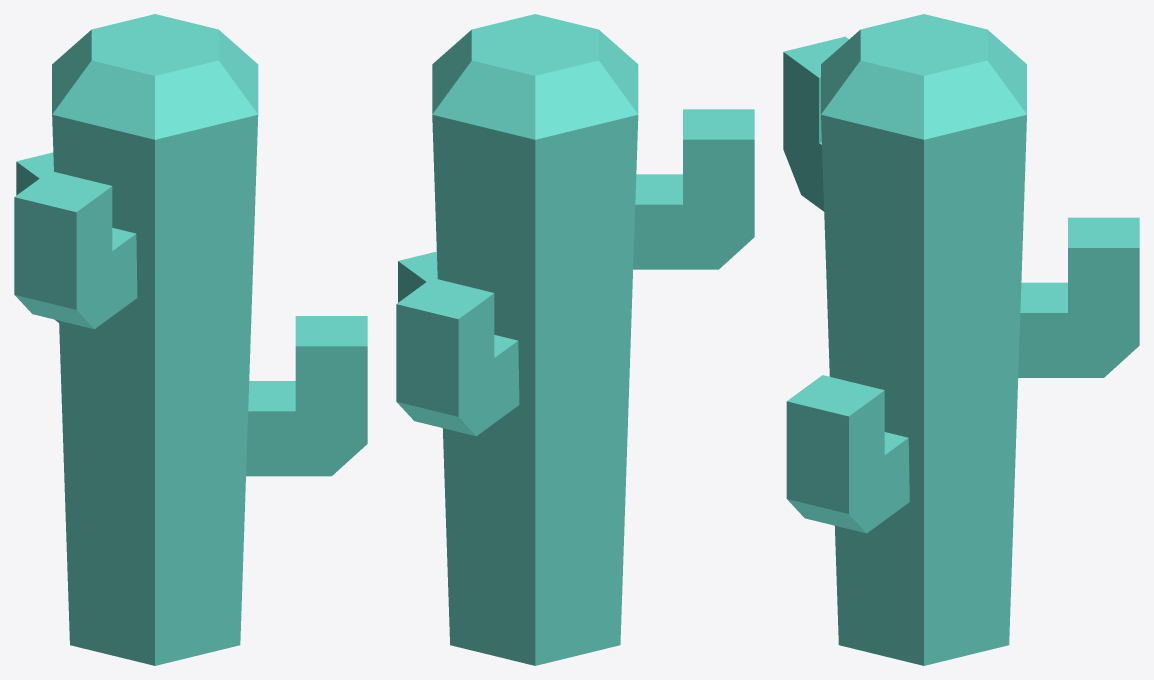
The model's file is cactus_short.gltf.
The picture shows the model from 3 angles, left to right: view 1: azimuth 30°, elevation 25°; view 2: azimuth 150°, elevation 25°; view 3: azimuth 270°, elevation 25°; orthographic projection.
Parts seen in each view (by area): view 1: cactus_short; view 2: cactus_short; view 3: cactus_short.
Part boxes in pixels (bbox=[...]): cactus_short: bbox=[14, 14, 367, 665]; cactus_short: bbox=[396, 14, 754, 665]; cactus_short: bbox=[783, 14, 1139, 665].
Bounding box in the file's own units: 0.3417 × 0.533 × 0.2972.
